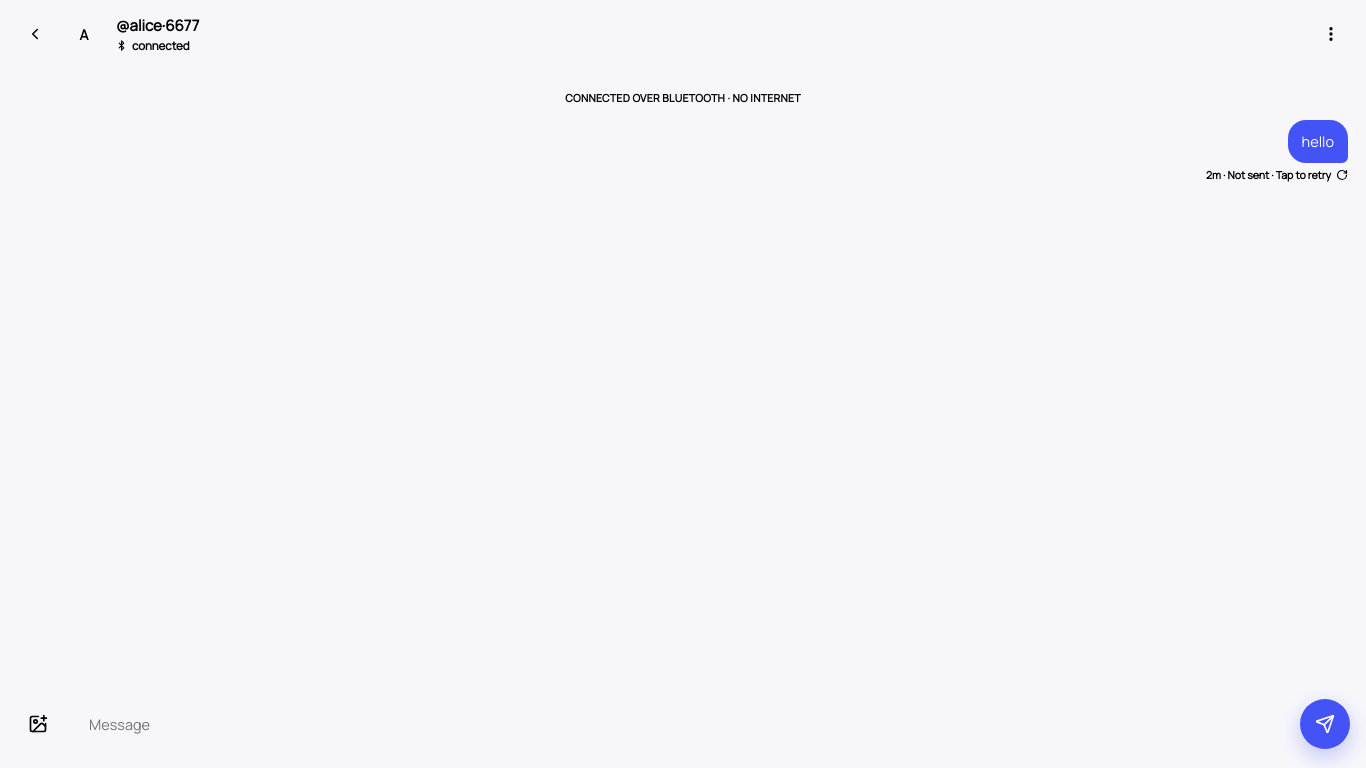
Test: ChatScreen — resending a failed message › resends a stored failed message by id and shows it sending again
The width and height of the screenshot is (1366, 768).
Click the button with aria-label "Retry sending".
click(1277, 175)  # box x1=1206 y1=168 x2=1348 y2=182
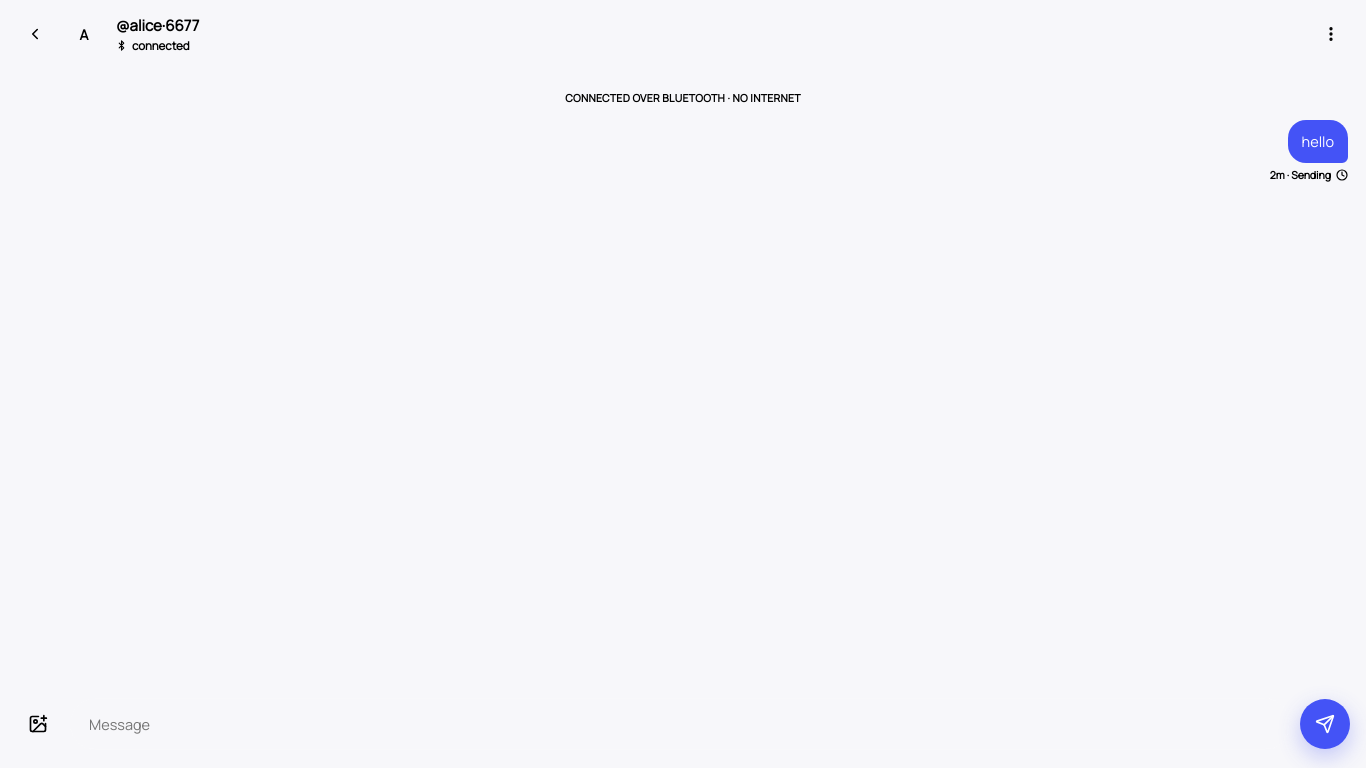
Check: the text "2m · Sending" is shown, box x1=1270 y1=168 x2=1348 y2=182
